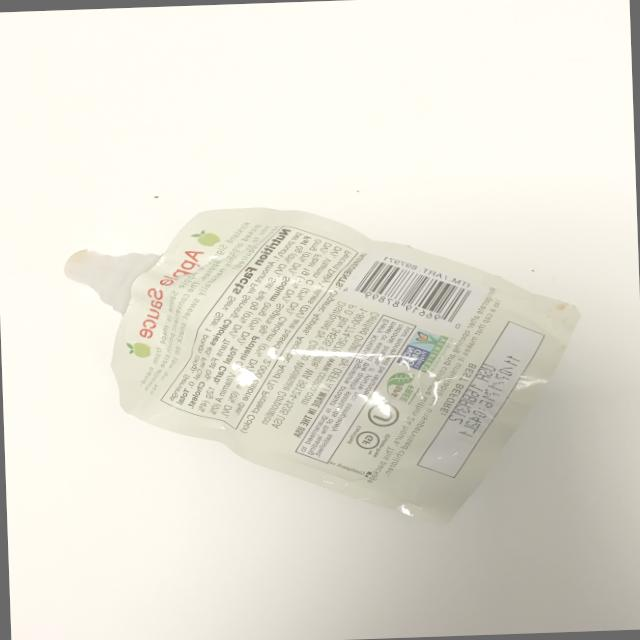Plastic: (48, 167, 602, 546)
